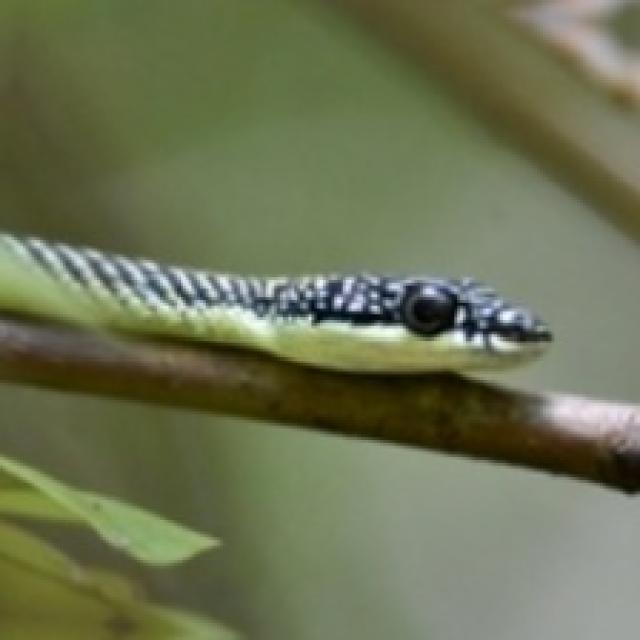paradise tree snake: (0, 233, 551, 372)
